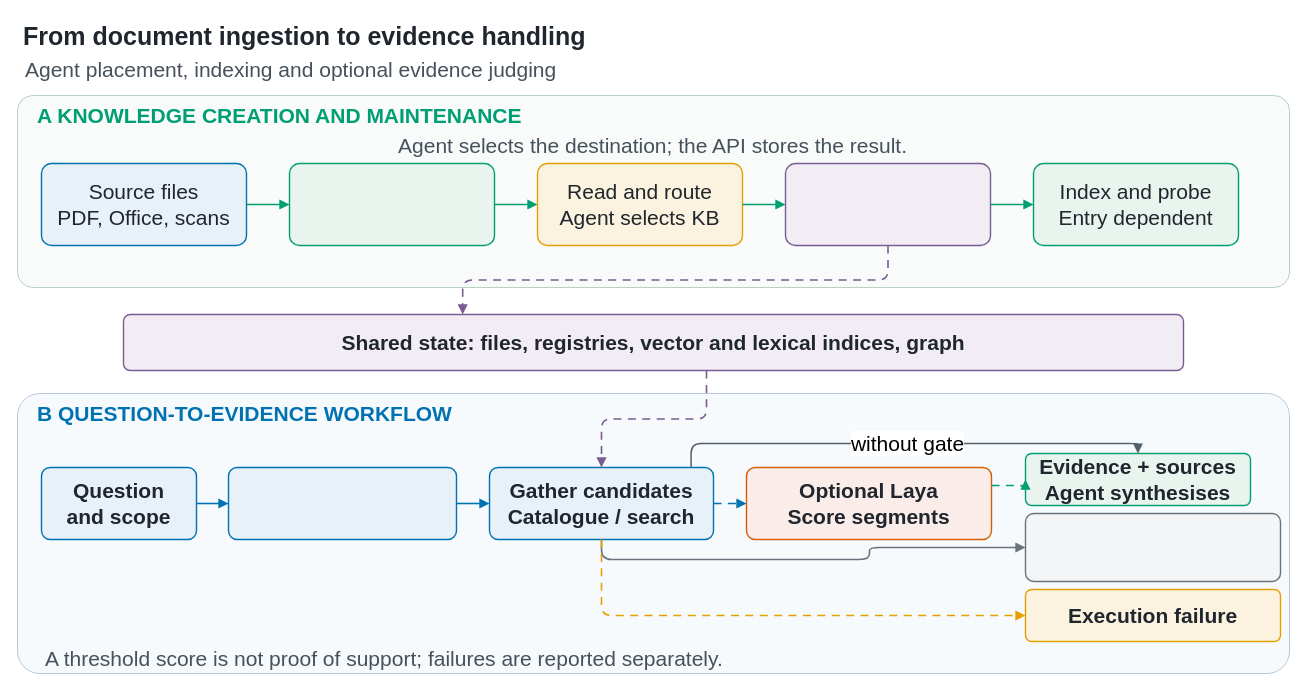
The diagram is 1307 pixels wide and 691 high, and some of its shapes have lost their labels. The box of each missing label's shape, as (x1, y1, x2, y2) in pixels:
Completed search Scoped not-found: (1024, 512, 1281, 582)
Parse and check OCR, structure: (288, 162, 495, 246)
Save state Files and registries: (784, 162, 991, 246)
Select workflow Pinned / all-library: (227, 466, 457, 540)
